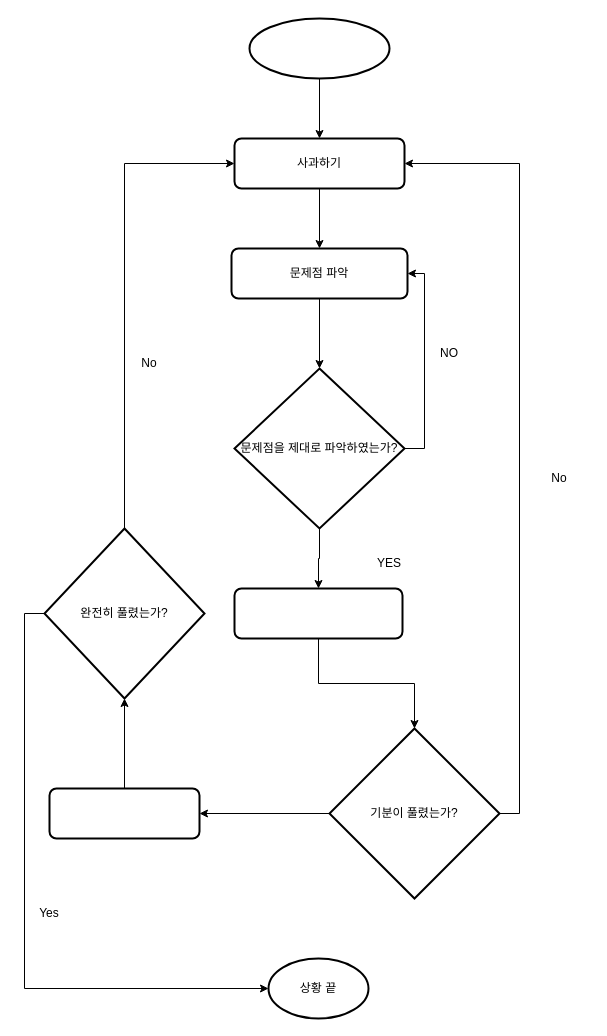
Image size: 607x1036. Some labels were removed from this diagram. Each missing label, with the box of its shape:
맛난 것을 뇌물로 달래기: (48, 787, 200, 839)
문제점을 반복하지 않겠다며 사과: (233, 587, 403, 639)
여자친구가 삐짐: (248, 17, 390, 79)
